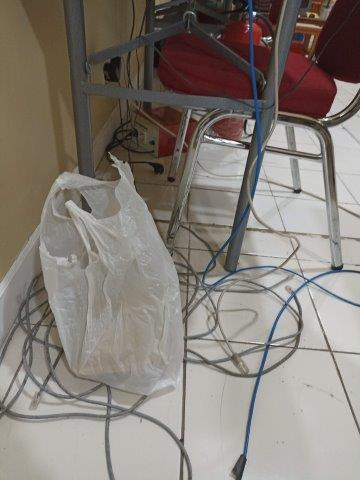plastik: (40, 154, 182, 396)
